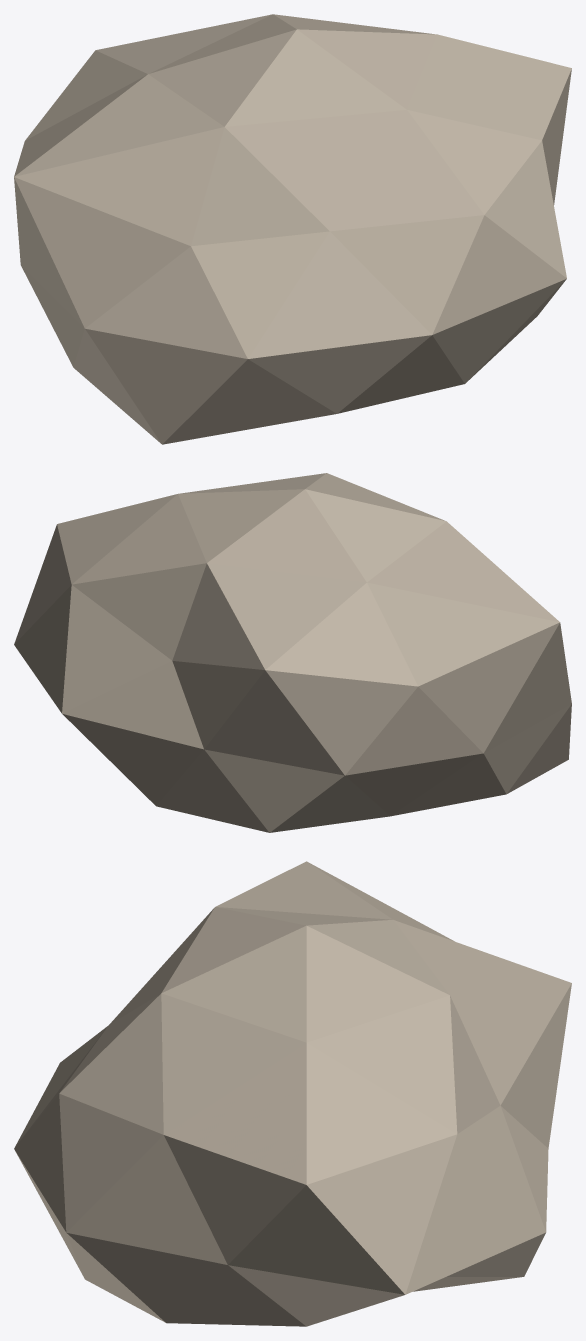
The model's file is stone_v6.glb.
The picture shows the model from 3 angles, top to bottom: view 1: azimuth 30°, elevation 25°; view 2: azimuth 150°, elevation 25°; view 3: azimuth 270°, elevation 25°; orthographic projection. The views are drawn at different scales.
Parts seen in each view (by area): view 1: Stone; view 2: Stone; view 3: Stone.
Boxes of the visible parts, left/top/right/bottom form: Stone: left=14, top=14, right=571, bottom=444; Stone: left=14, top=473, right=571, bottom=832; Stone: left=14, top=861, right=571, bottom=1326.
Size of the model in its own units: 0.0952 by 0.0497 by 0.0761.
